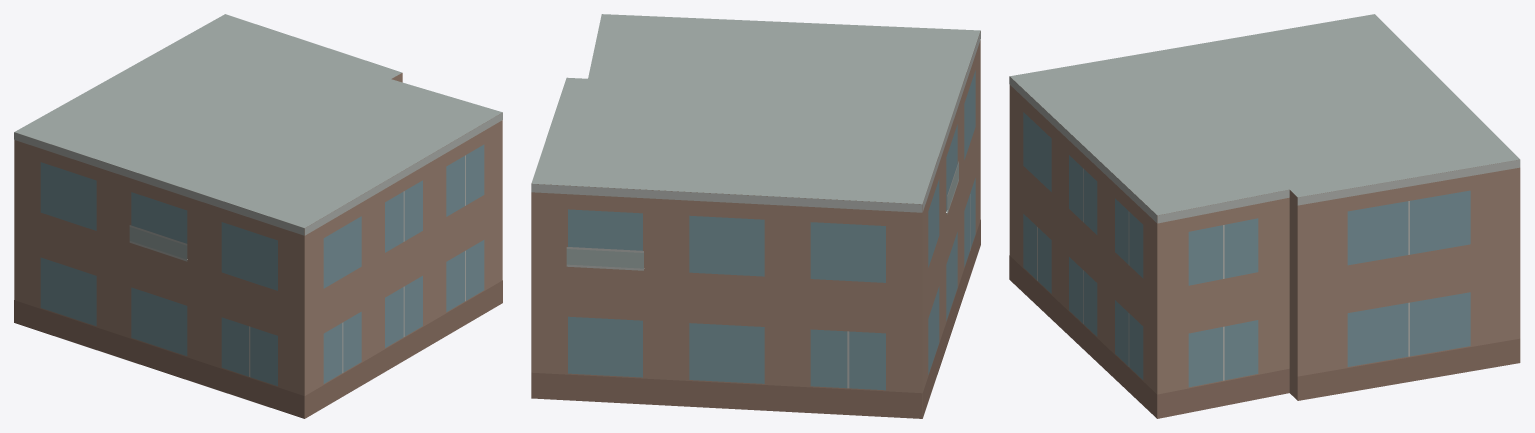
Rendered from survey-upis-33029358.glb.
3 renders of one model, left to right at view 1: azimuth 30°, elevation 25°; view 2: azimuth 150°, elevation 25°; view 3: azimuth 270°, elevation 25°, orthographic. The views are drawn at different scales.
Visible parts, largest first — view 1: survey-upis-33029358.tmp; view 2: survey-upis-33029358.tmp; view 3: survey-upis-33029358.tmp.
Part boxes in pixels (box(x1,y1,x2,y2)): survey-upis-33029358.tmp: box(14, 14, 502, 418); survey-upis-33029358.tmp: box(531, 14, 980, 418); survey-upis-33029358.tmp: box(1009, 14, 1520, 418).
Size of the model in its own units: 12.96 by 6.1 by 13.89.
